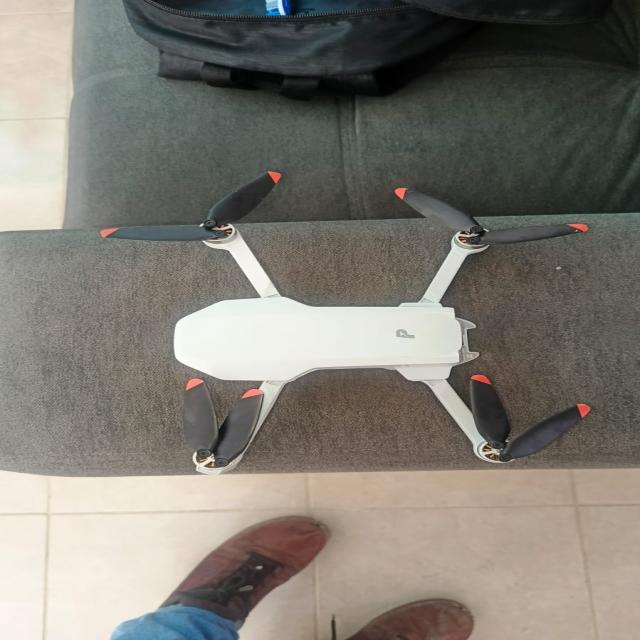dron: (74, 168, 607, 491)
